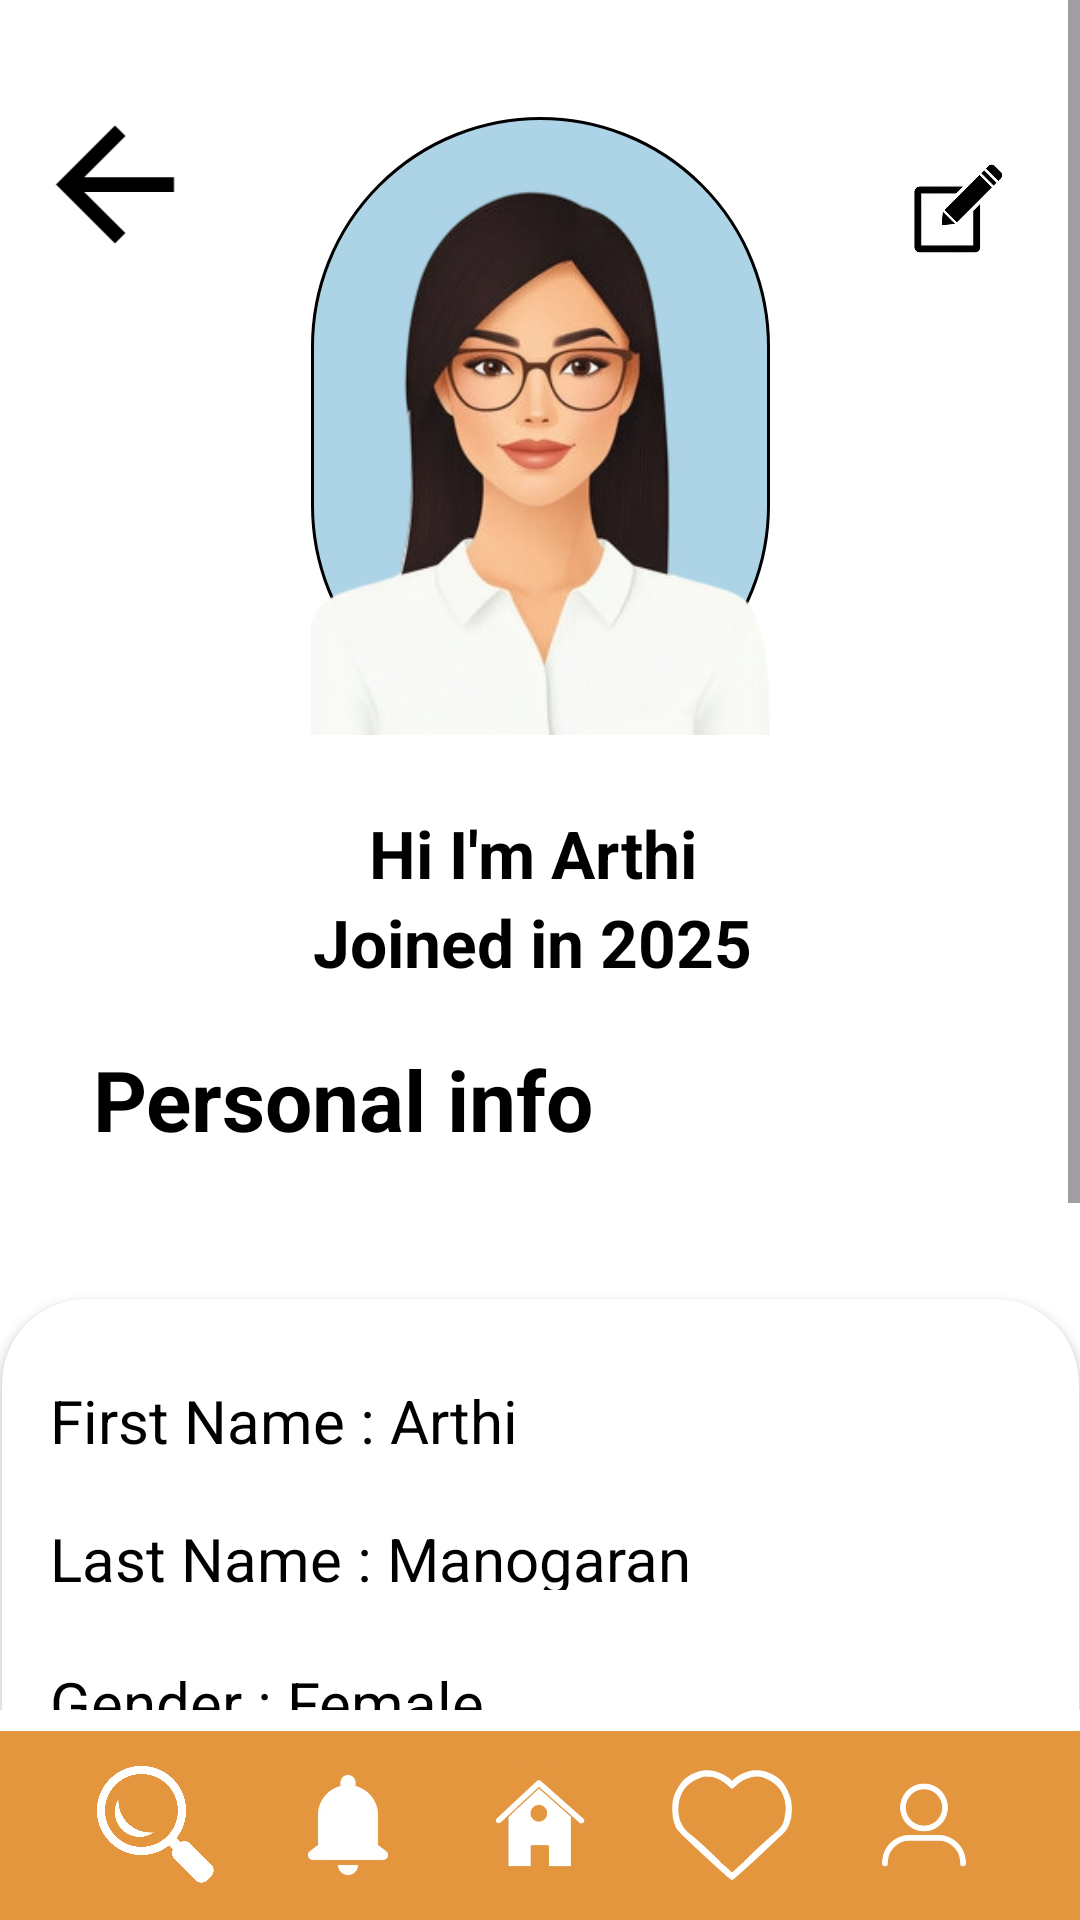

Icons on this 1080*1920 Android screen, each with the point to tap as [x,y]:
back: [115,184]
Edit Profile: [958,208]
Favorites: [732,1825]
Home: [540,1823]
Notifications: [348,1825]
Profile: [924,1825]
Search: [155,1824]
